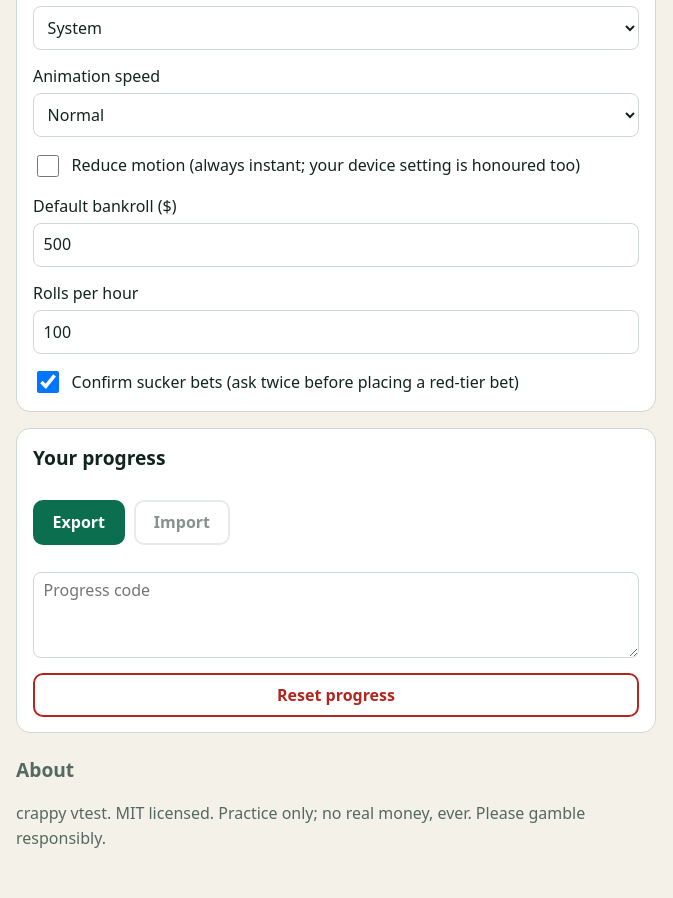
Test: Settings › invalid codes are rejected without a confirm step
(page scrolled)
Type "junk" into the text box with placeholder "Progress code".
click(336, 615); type("junk")  # box [33,572,639,658]
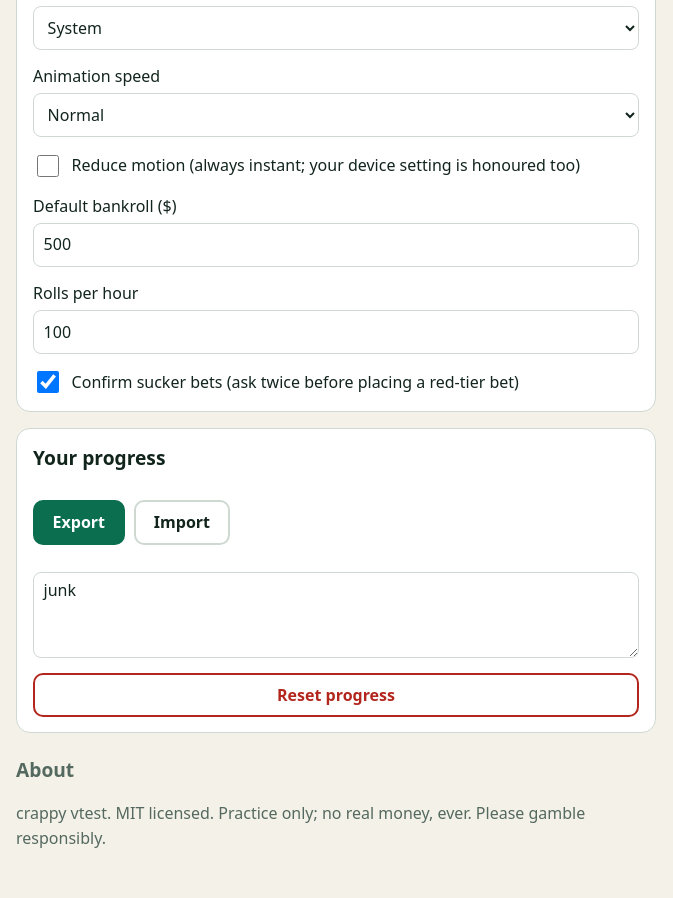
Click the button "Import".
click(182, 523)  # box [134,500,230,545]
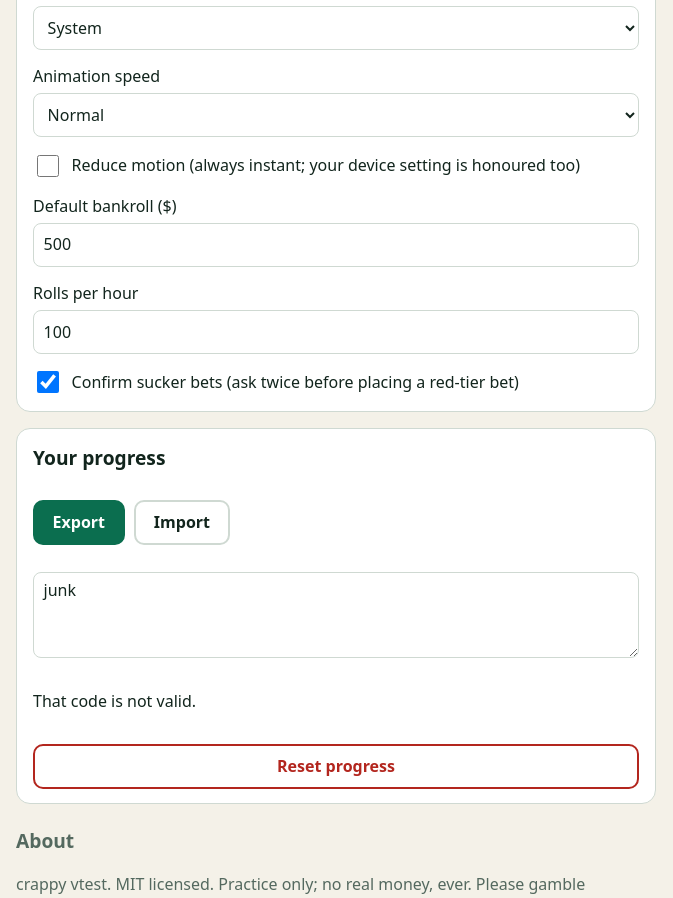
Expected: the text "That code is not valid." is shown, [33,690,196,712]
